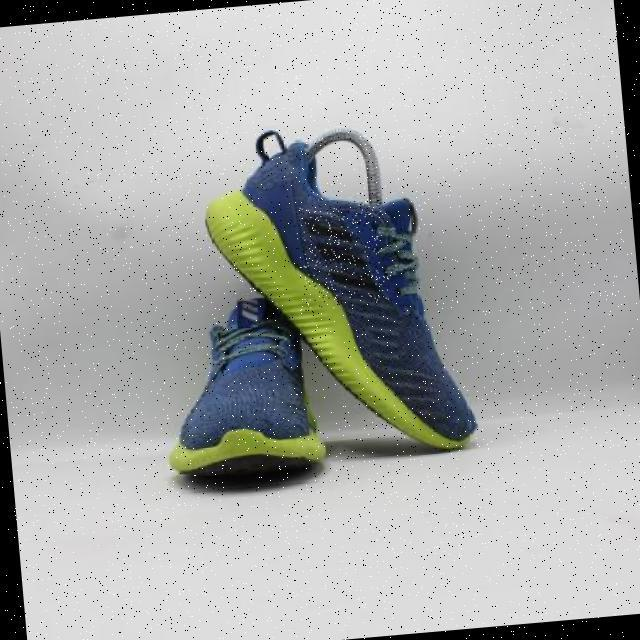Adidas: (294, 199, 391, 311)
